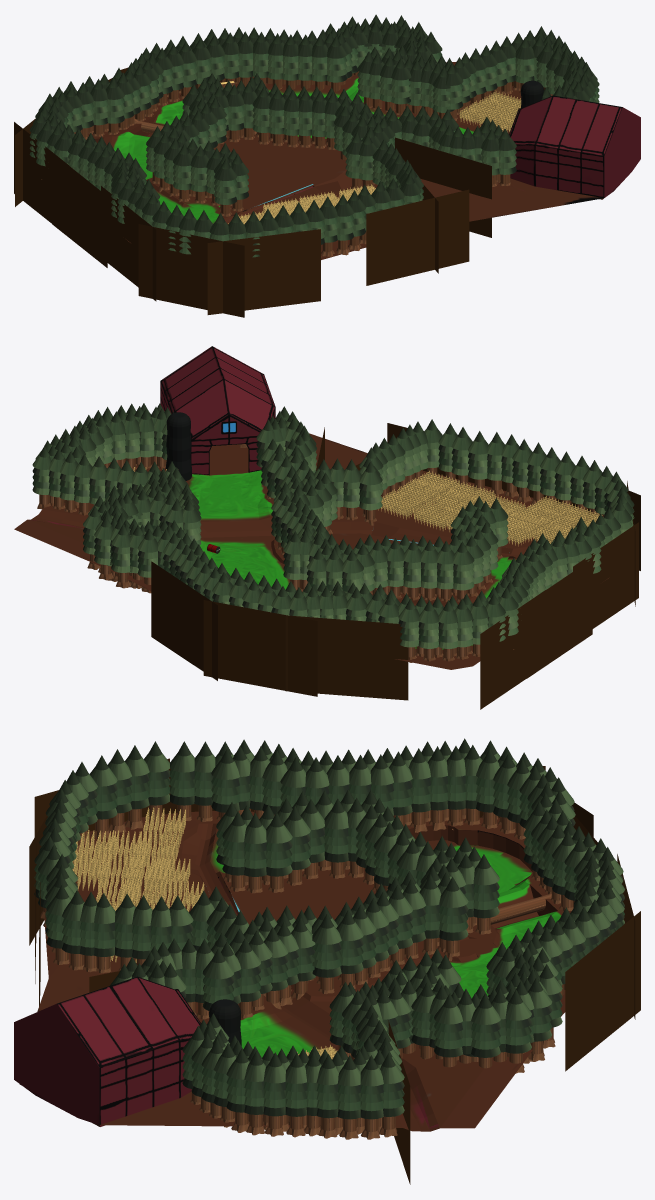
File: mapa nivel 1 completo.fbx
3 views of the same model, one above another, from view 1: azimuth 30°, elevation 25°; view 2: azimuth 150°, elevation 25°; view 3: azimuth 270°, elevation 25° (orthographic). The views are drawn at different scales.
Parts seen in each view (by area): view 1: mapa; view 2: mapa; view 3: mapa, pino.184.
Part boxes in pixels (x1,y1,x2,y2): mapa: (14,14,640,317); mapa: (14,346,640,709); mapa: (14,738,640,1184); pino.184: (264,927,288,1009).
Size of the model in its own units: 11608 by 2468 by 9169.
